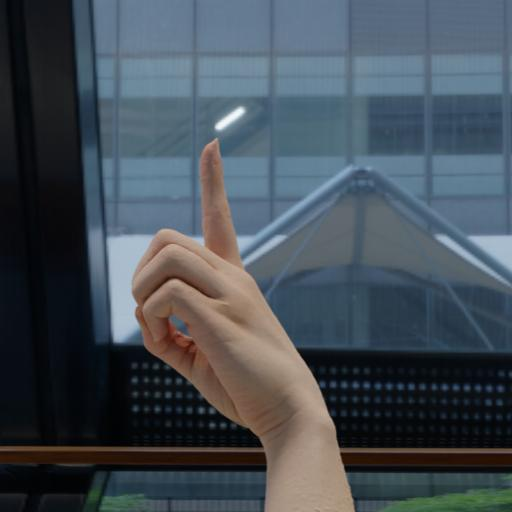D: (129, 135, 333, 429)
